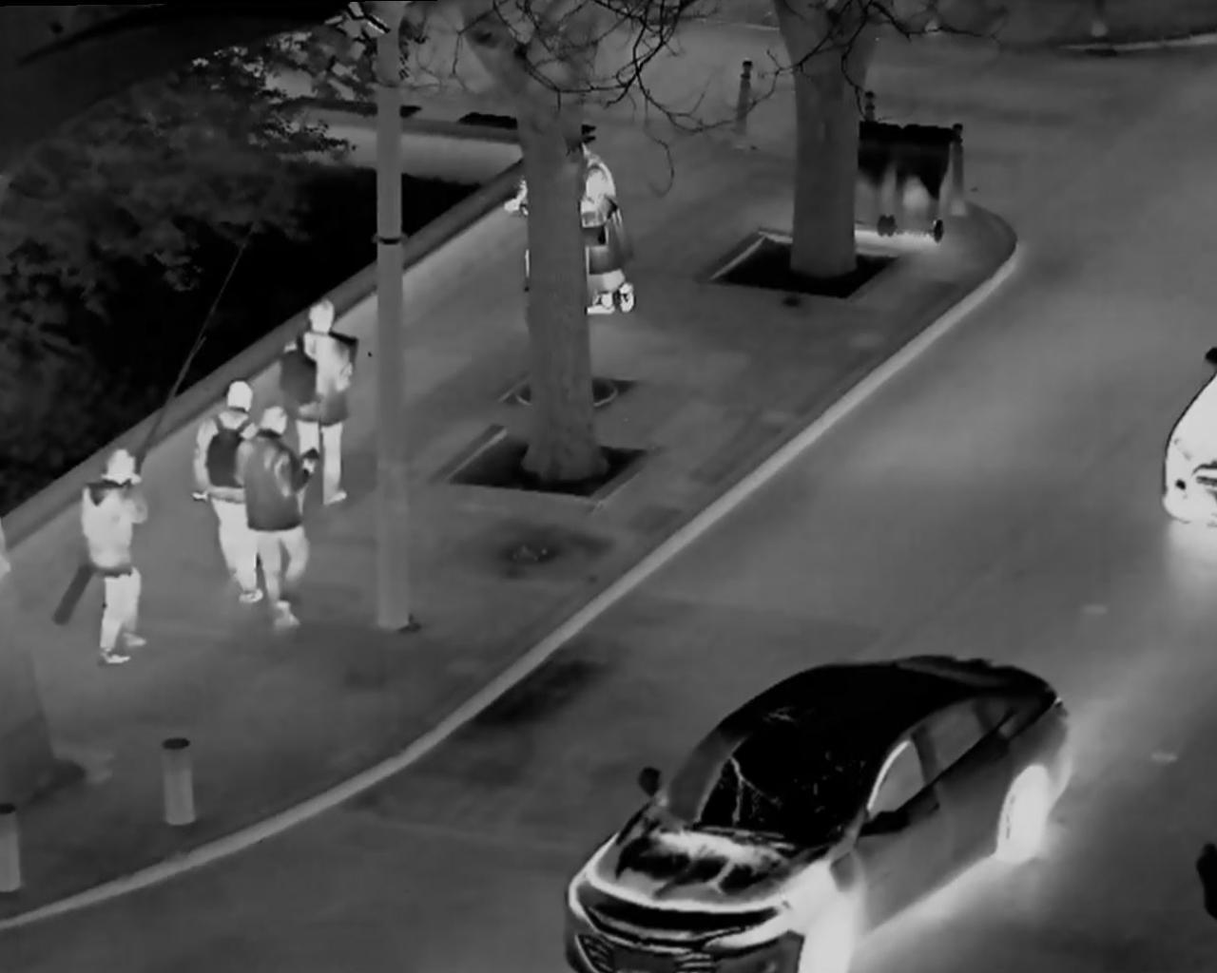person: (271, 299, 377, 507), (77, 444, 175, 667), (189, 374, 271, 617), (241, 403, 311, 651), (567, 133, 651, 319)
